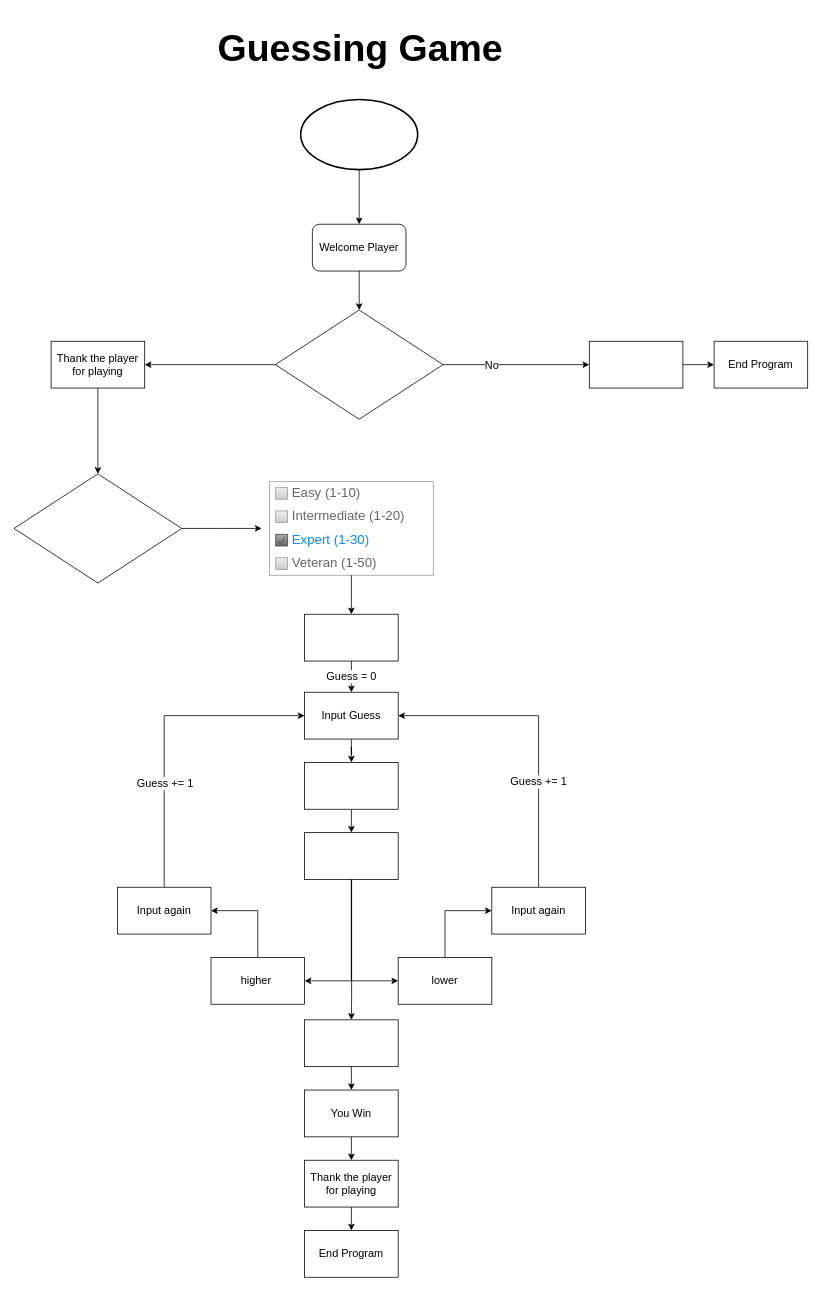
Image size: 821x1291. Some labels were removed from this diagram. Each missing label, with the centre of its shape:
Choose difficulties: [97,528]
compare digit: [351,855]
If player wants to play or not: [359,364]
input == digit: [351,1043]
isDigit(): [351,785]
quit(): [636,364]
Start: [359,134]
Start the Game: [351,637]
